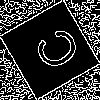C: (24, 24, 83, 78)
